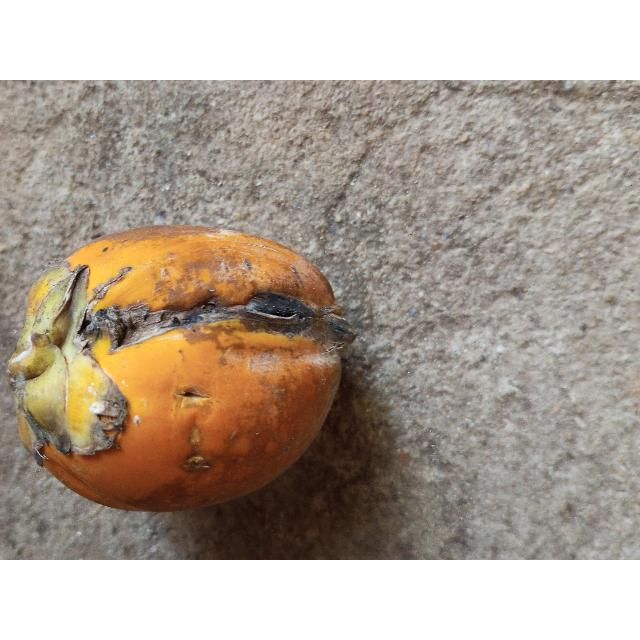damaged: (8, 226, 352, 515)
